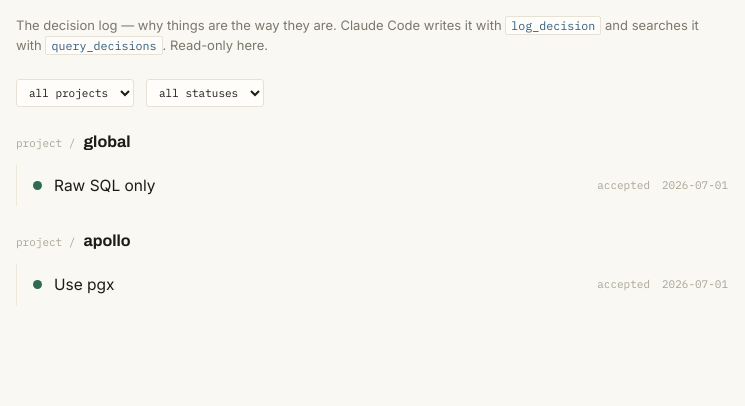
Scenario: DecisionsView › reveals rationale when a row is expanded
Click the button with test id "decision-toggle" showing "Use pgx accepted 2026-07-01".
click(84, 285)  # box [33,264,728,306]
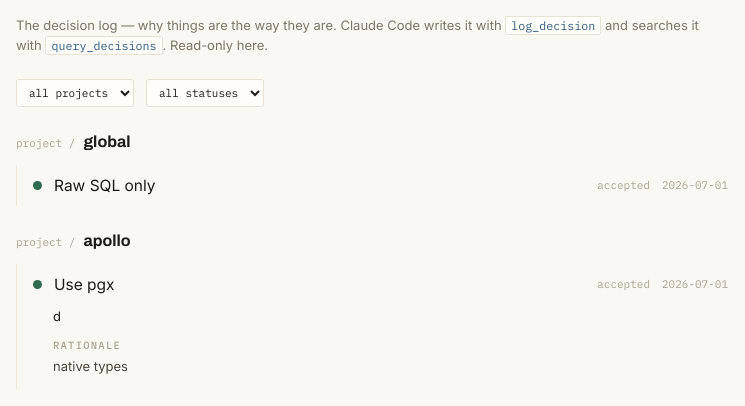
Expected: the element with test id "detail-a" shows "native types", [53,358,128,374]
